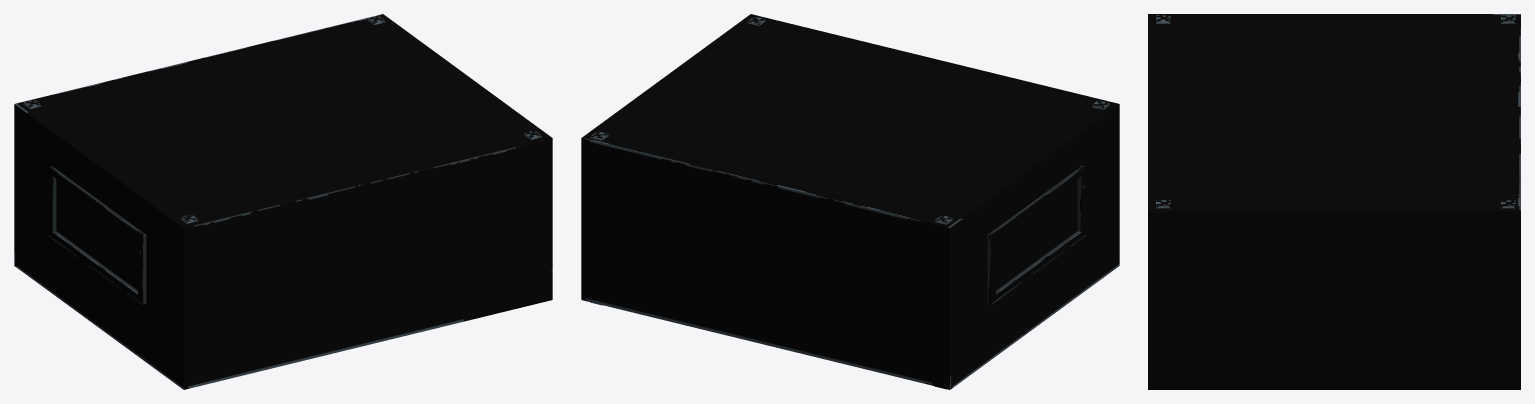
Rendered from Room_Test2.glb.
The picture shows the model from 3 angles, left to right: view 1: azimuth 30°, elevation 25°; view 2: azimuth 150°, elevation 25°; view 3: azimuth 270°, elevation 25°; orthographic projection. The views are drawn at different scales.
Parts seen in each view (by area): view 1: Room, Window; view 2: Room, Window; view 3: Room.
Boxes of the visible parts, box(x1,y1,x2,y2) form: Room: box(14, 14, 552, 389); Window: box(48, 165, 146, 304); Room: box(581, 14, 1119, 389); Window: box(987, 165, 1085, 304); Room: box(1148, 14, 1520, 389).
Bounding box in the file's own units: 10.12 × 4.32 × 7.97.
Materials: 28 (26 with a texture image).
